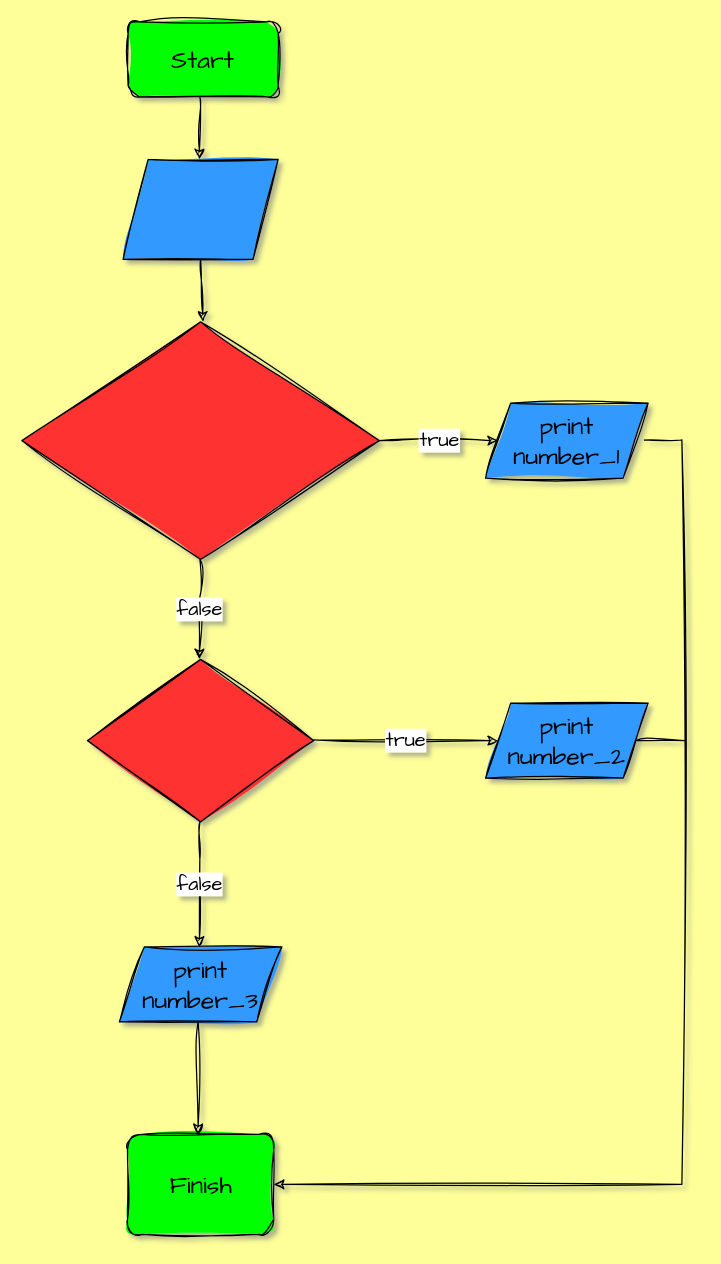
Image size: 721x1264. Some labels were removed from this diagram. Here are the shapes that lost their labels. From the top down, the box of each, then its label:
(122, 158, 278, 259): number 1 number 3 number 3
(21, 321, 379, 559): number_1 > number_2 && number_1 > number_3
(86, 658, 314, 822): number_2 > number_3
